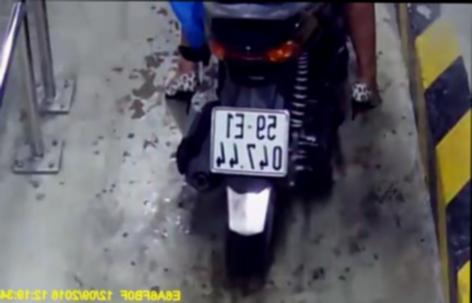License_Plate: (200, 102, 300, 179)
